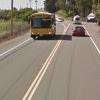Bus: (26, 9, 58, 42)
